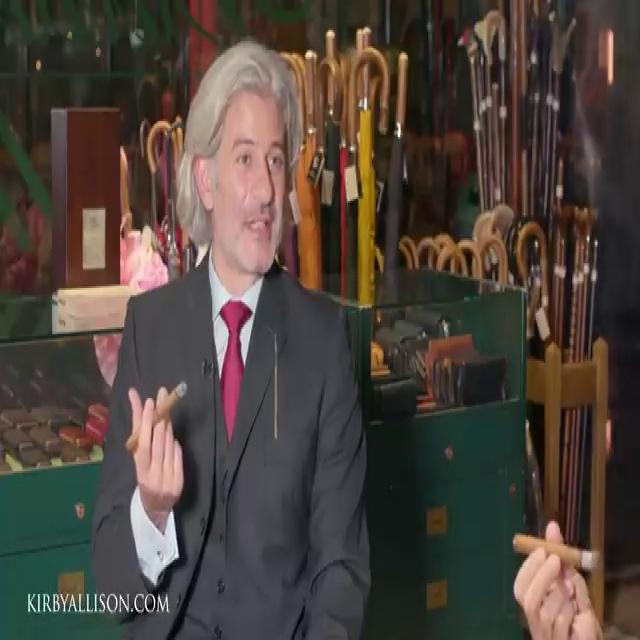Smooking: (102, 368, 207, 456)
